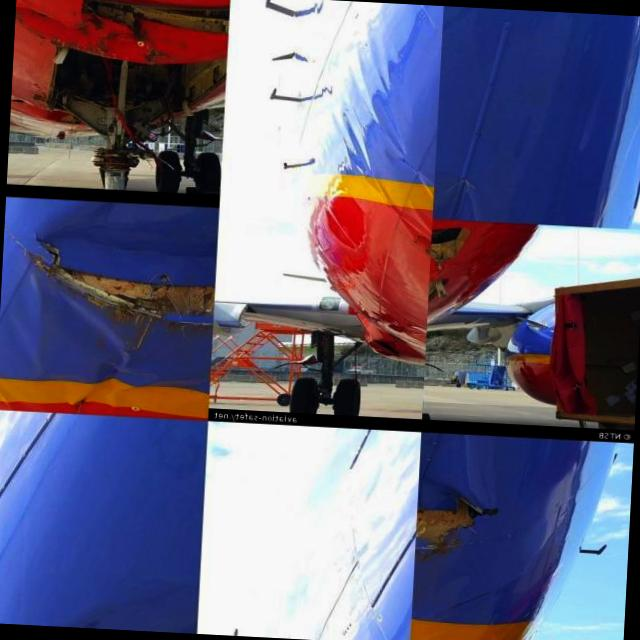crack: (26, 230, 68, 270)
